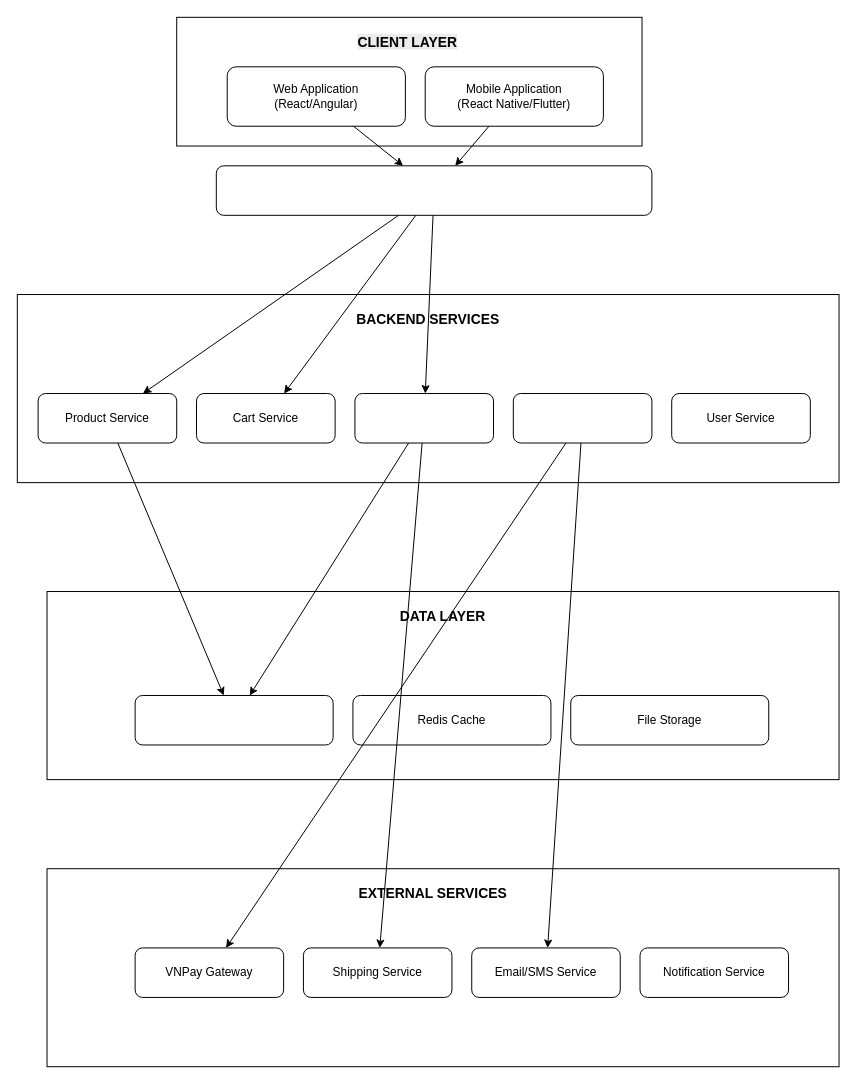
Image size: 856x1084. Some labels were removed from this diagram. Each missing label, with the box of its shape:
API GATEWAY (Authentication, Routing): (215, 165, 652, 215)
Order Service: (354, 393, 494, 443)
Payment Service: (512, 393, 652, 443)
PostgreSQL MySQL: (134, 694, 333, 745)
